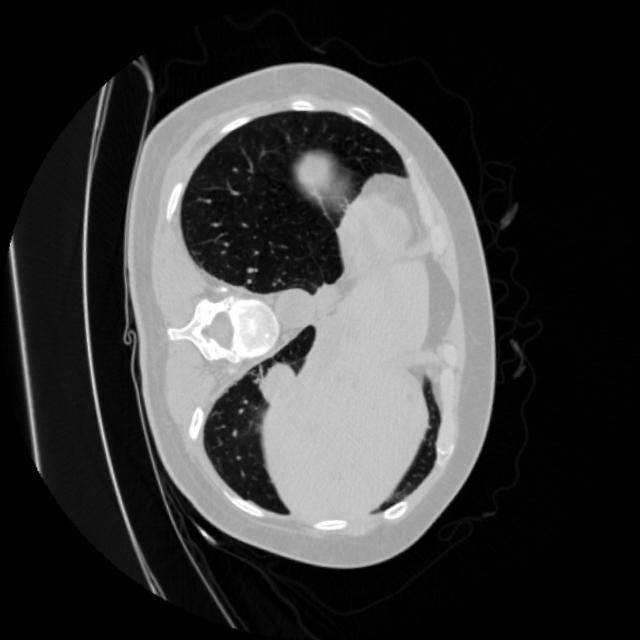nodule: (242, 348, 310, 417)
